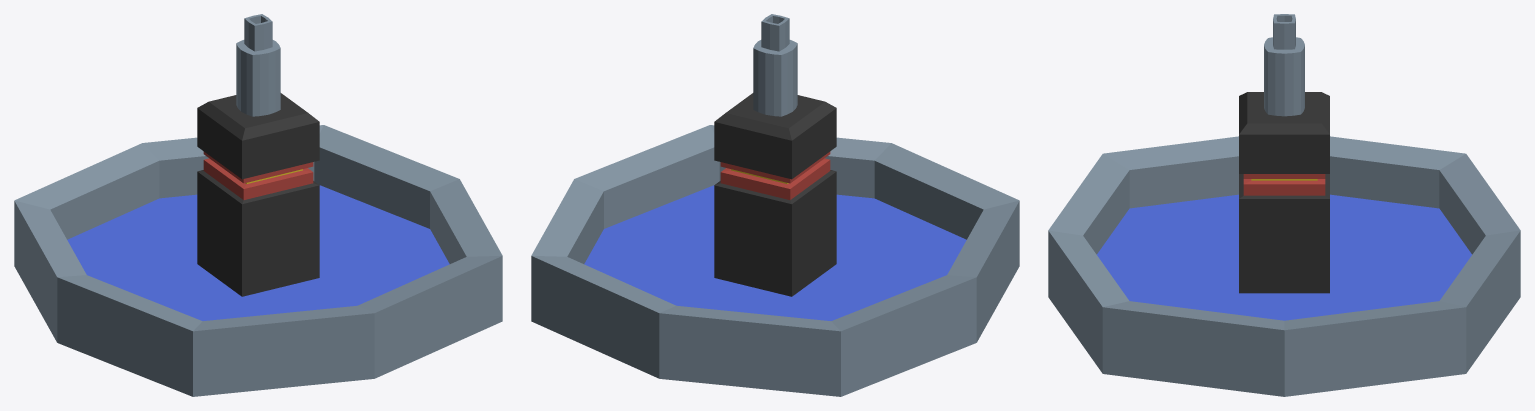
File: Fountain.fbx
3 views of the same model, side by side, from view 1: azimuth 30°, elevation 25°; view 2: azimuth 150°, elevation 25°; view 3: azimuth 270°, elevation 25° (orthographic).
Visible parts, largest first — view 1: Plane.001; view 2: Plane.001; view 3: Plane.001.
Part boxes in pixels (box(x1,y1,x2,y2)): Plane.001: box(14, 14, 502, 396); Plane.001: box(531, 14, 1019, 396); Plane.001: box(1048, 14, 1520, 396).
Bounding box in the file's own units: 260 × 172 × 260.
